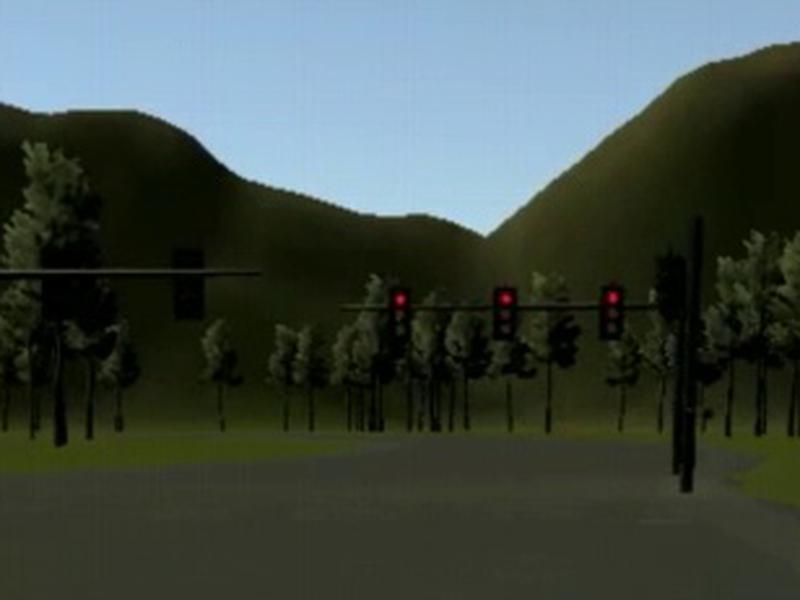Red: (599, 286, 625, 341), (494, 287, 517, 341), (389, 290, 411, 343)
